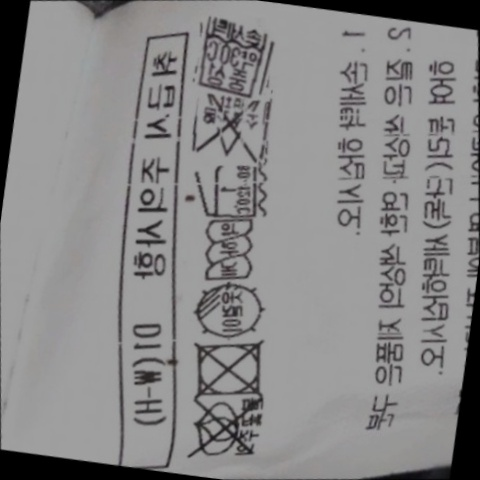DN_tumble_dry: (178, 323, 283, 413)
hand_wash: (183, 10, 284, 105)
iron_low: (187, 150, 273, 231)
line_dry_in_shade: (180, 270, 278, 351)
wring: (192, 209, 268, 293)
